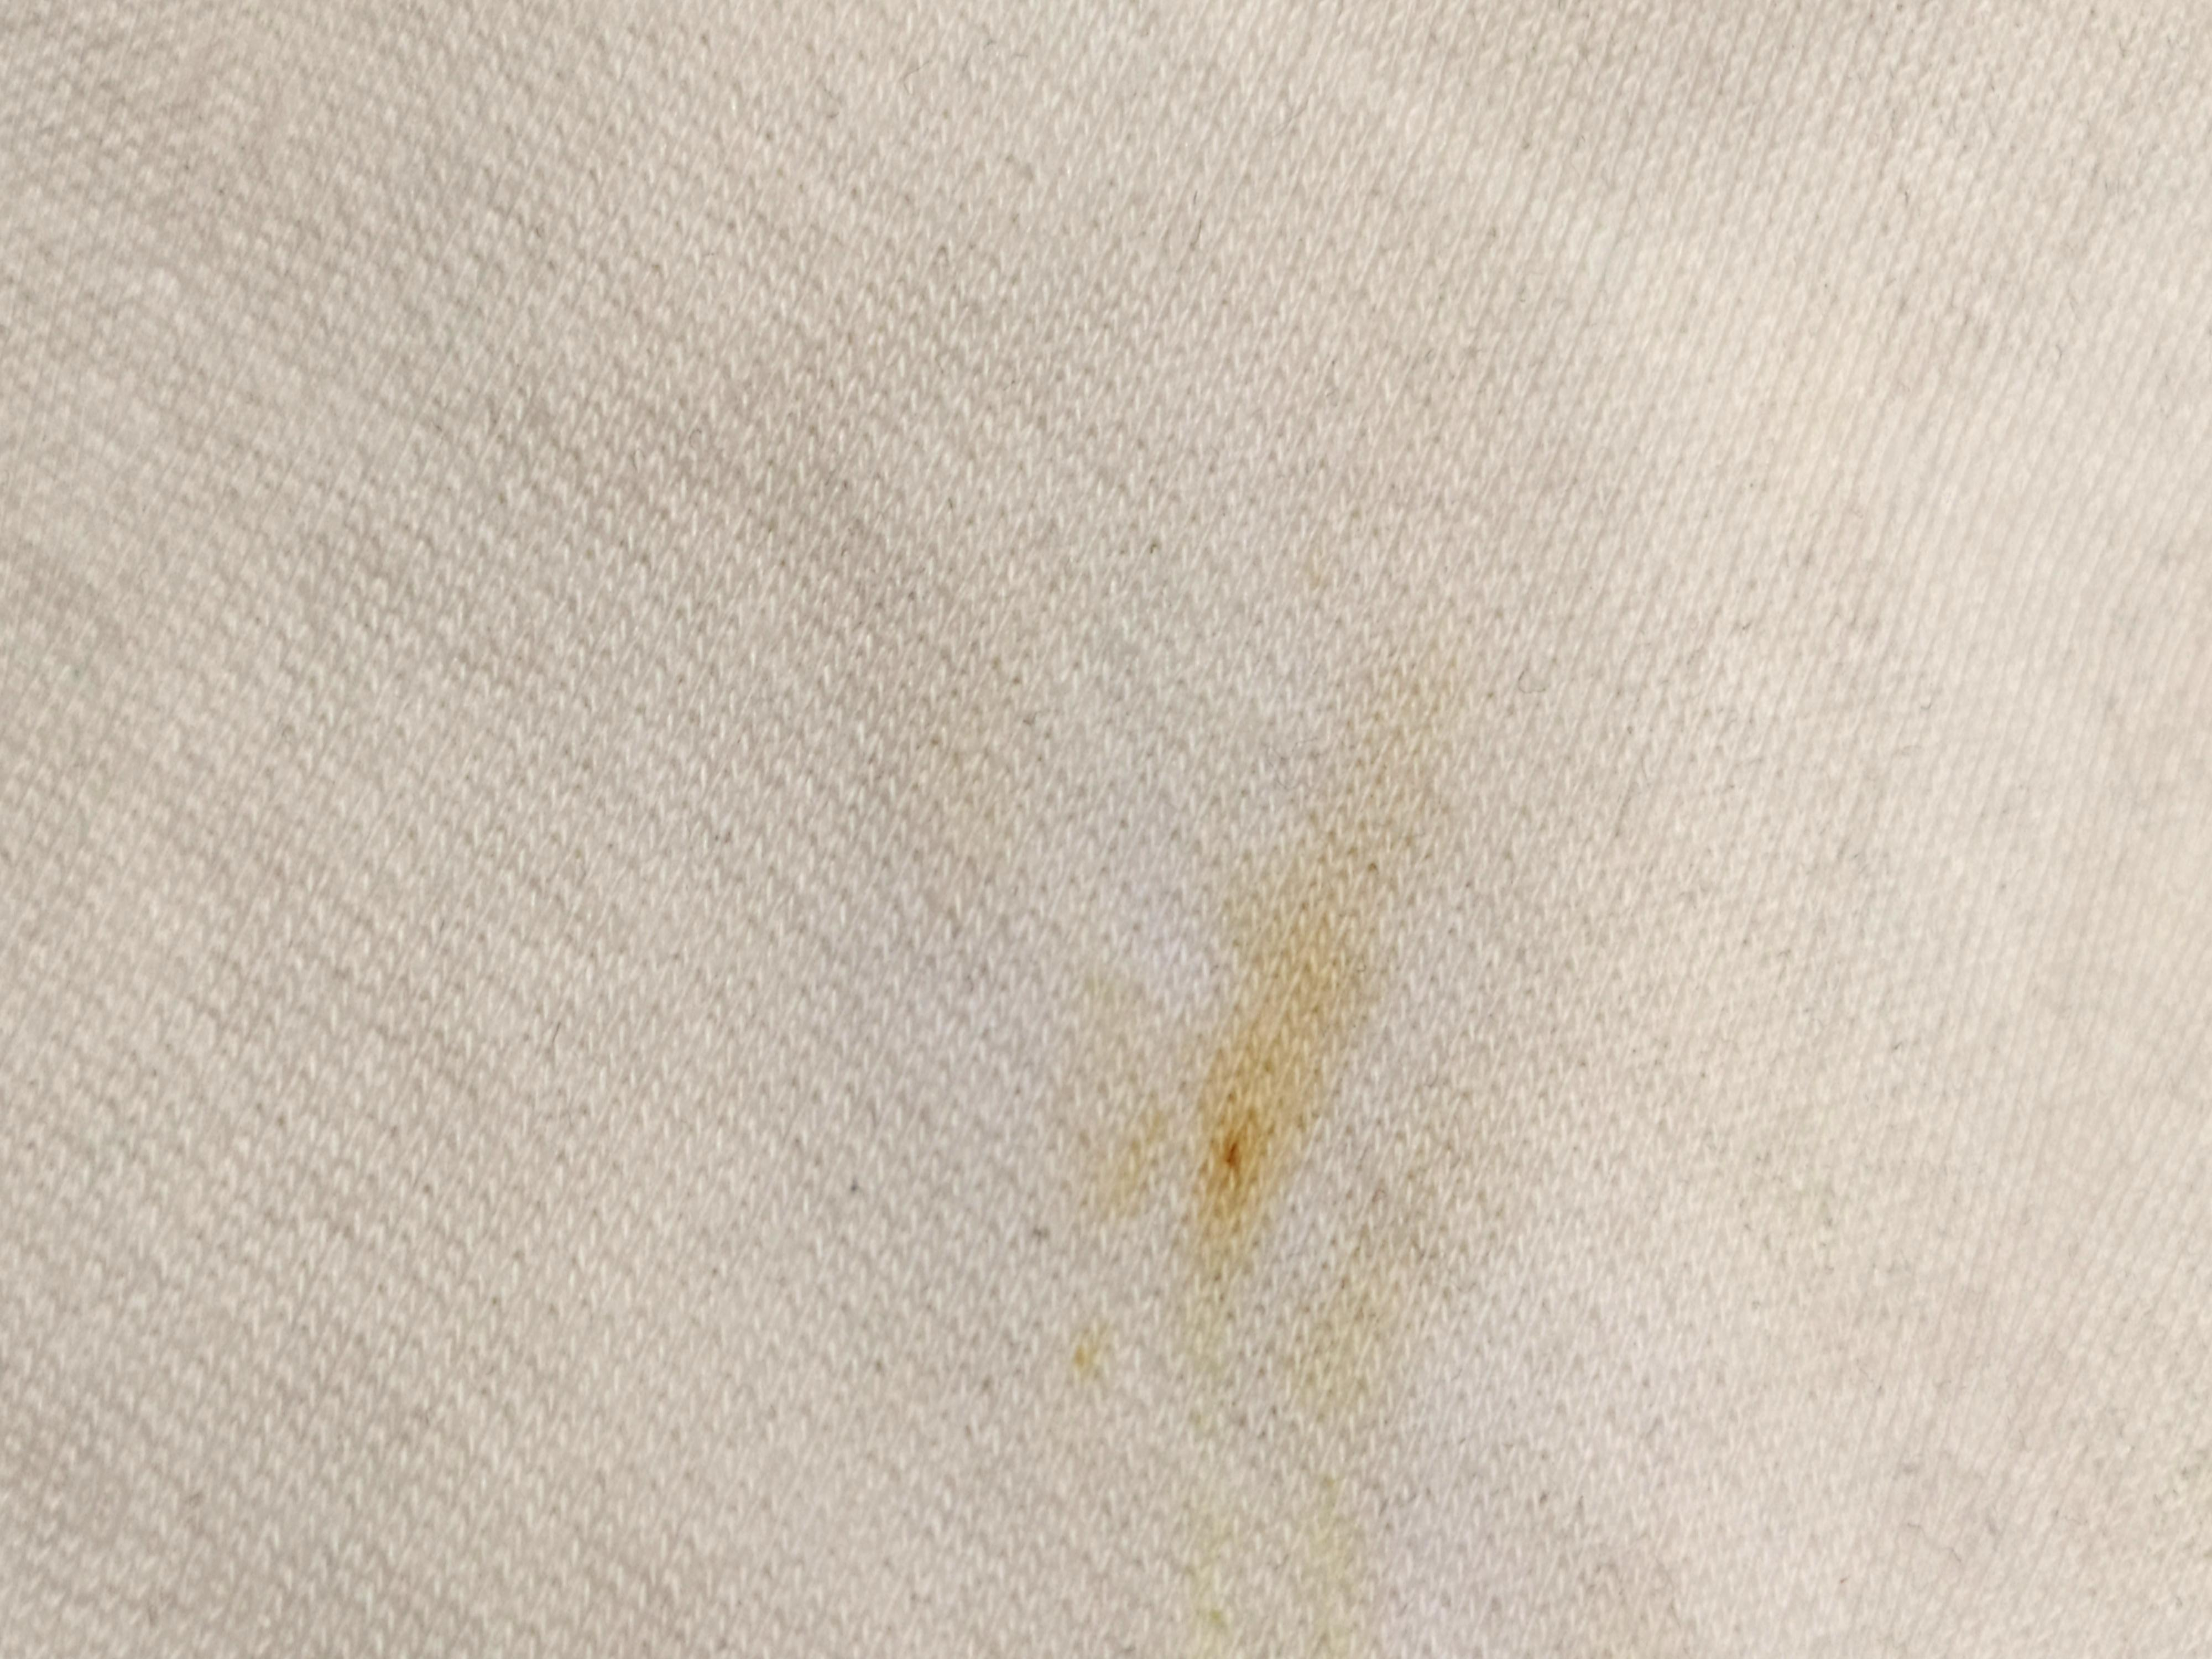stain: (1139, 843, 1362, 1276)
